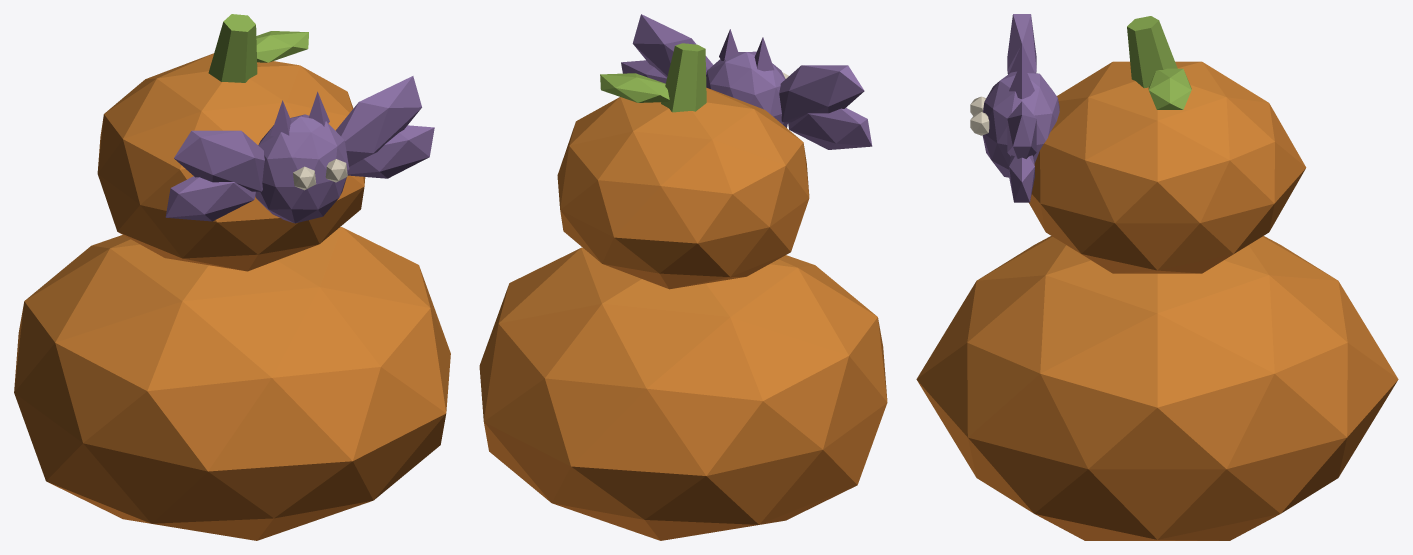
Rendered from plot_skin_haunted.fbx.
3 renders of one model, left to right at view 1: azimuth 30°, elevation 25°; view 2: azimuth 150°, elevation 25°; view 3: azimuth 270°, elevation 25°, orthographic. The views are drawn at different scales.
Parts seen in each view (by area): view 1: plot_skin_haunted; view 2: plot_skin_haunted; view 3: plot_skin_haunted.
Part boxes in pixels (x1,y1,x2,y2): plot_skin_haunted: (14,14,450,540); plot_skin_haunted: (479,14,887,540); plot_skin_haunted: (916,14,1398,540).
Bounding box in the file's own units: 3.41 × 4.35 × 3.81.
